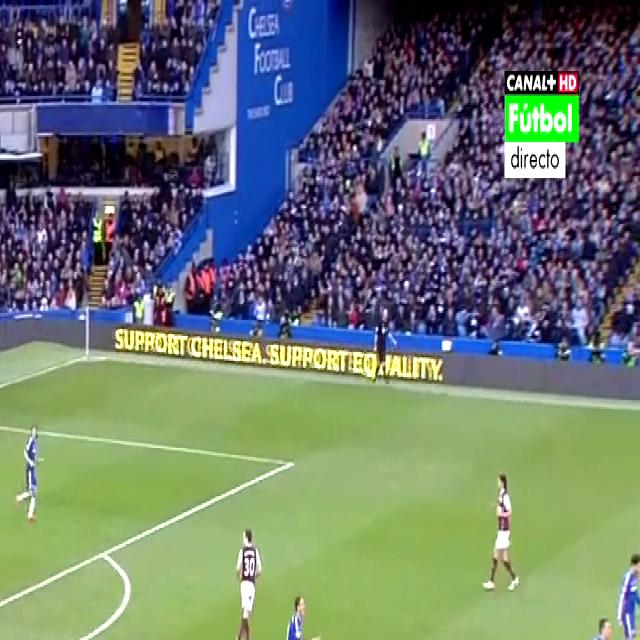soccer-player: (479, 459, 525, 604), (225, 512, 267, 640), (10, 413, 46, 531), (255, 585, 316, 640), (612, 537, 639, 640), (584, 610, 625, 640)
